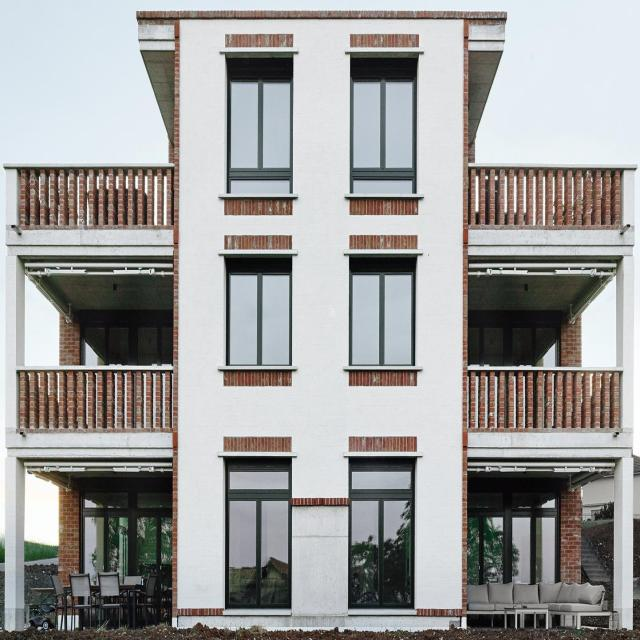Railing: (468, 372, 624, 436), (471, 168, 625, 230), (21, 168, 178, 228), (19, 377, 177, 433)
door: (469, 496, 560, 634), (84, 494, 171, 634)
wall: (3, 10, 633, 629)
windows: (226, 469, 292, 612), (229, 65, 295, 201), (355, 60, 418, 196), (354, 472, 414, 612), (228, 268, 294, 373), (352, 266, 417, 369), (472, 320, 561, 372), (85, 320, 177, 370)
